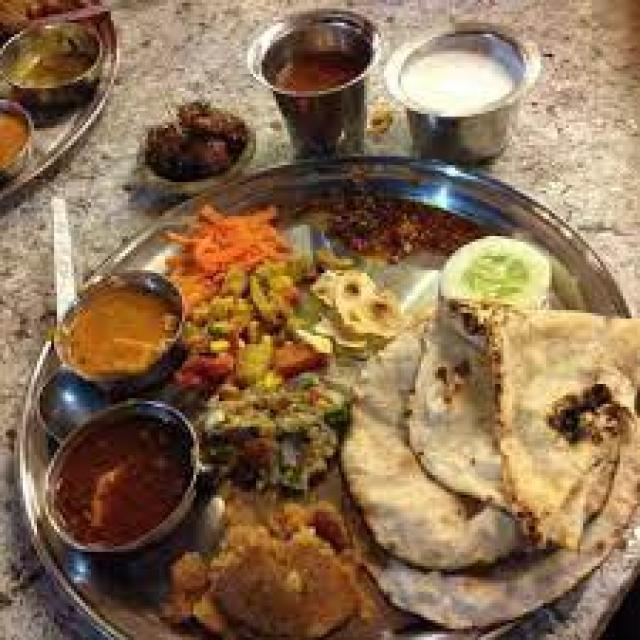dal: (52, 272, 188, 395), (442, 238, 555, 319)
pickle: (142, 102, 254, 198)
rice: (166, 200, 312, 405)
roti: (489, 308, 634, 555)
sambar-rasam: (261, 13, 374, 104)
sweet: (44, 404, 203, 562), (2, 12, 104, 112), (2, 94, 39, 181)
